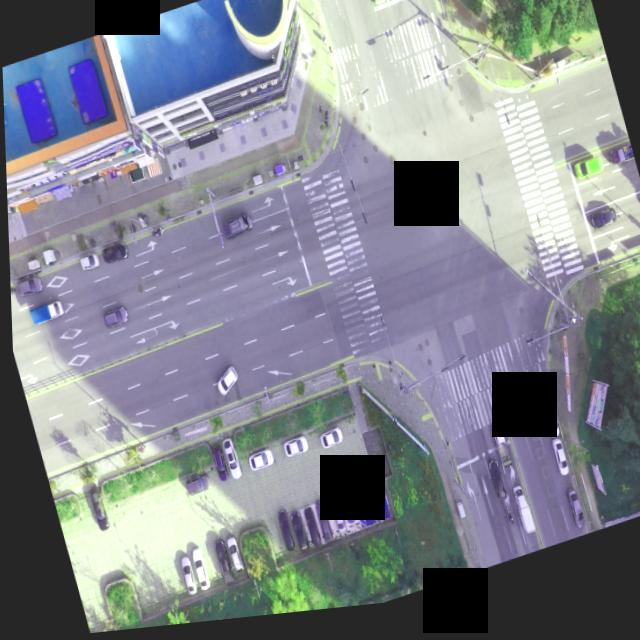car: (534, 404, 557, 451), (269, 511, 291, 557), (215, 441, 237, 486), (206, 542, 227, 588), (208, 370, 236, 403), (217, 218, 250, 246), (561, 499, 582, 542), (307, 503, 327, 548), (481, 468, 501, 513), (187, 553, 207, 597), (296, 510, 316, 553), (323, 501, 343, 543), (173, 558, 193, 600), (568, 167, 600, 193), (546, 447, 565, 488), (283, 517, 302, 558), (178, 475, 206, 501), (585, 220, 614, 245), (82, 489, 101, 527), (206, 449, 225, 486), (12, 273, 40, 298), (218, 539, 236, 577), (242, 452, 269, 477), (98, 308, 125, 332), (334, 496, 351, 533), (97, 245, 124, 268), (279, 440, 304, 464), (315, 434, 339, 457), (309, 433, 334, 455), (76, 253, 98, 273), (39, 248, 56, 268), (378, 0, 398, 9), (635, 205, 640, 225)
small_bus: (354, 0, 385, 17)
small_truck: (506, 494, 531, 547), (484, 430, 507, 479), (24, 300, 61, 328), (604, 155, 633, 181)
